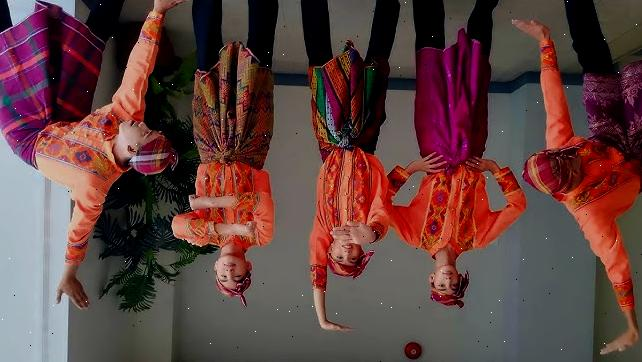malong: (520, 44, 642, 312), (0, 0, 103, 159), (390, 157, 526, 267), (186, 50, 280, 172), (406, 43, 499, 165), (302, 45, 395, 160), (308, 152, 382, 289), (173, 163, 290, 247), (593, 38, 642, 189)
